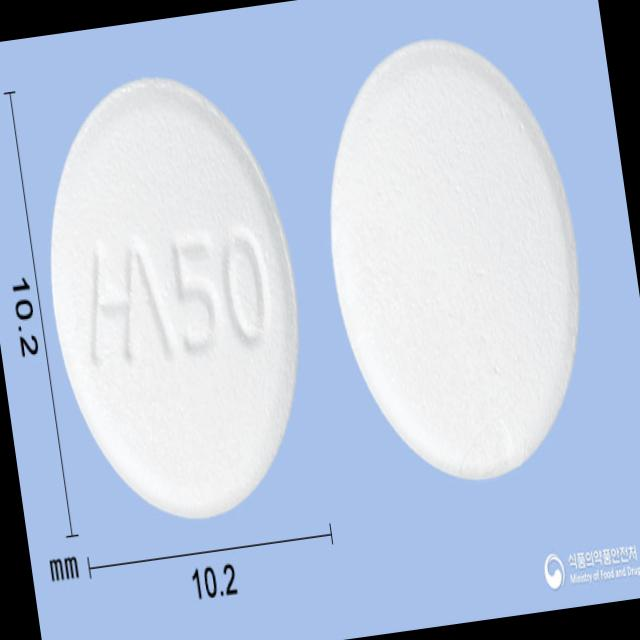Herfam: (24, 56, 328, 536)
